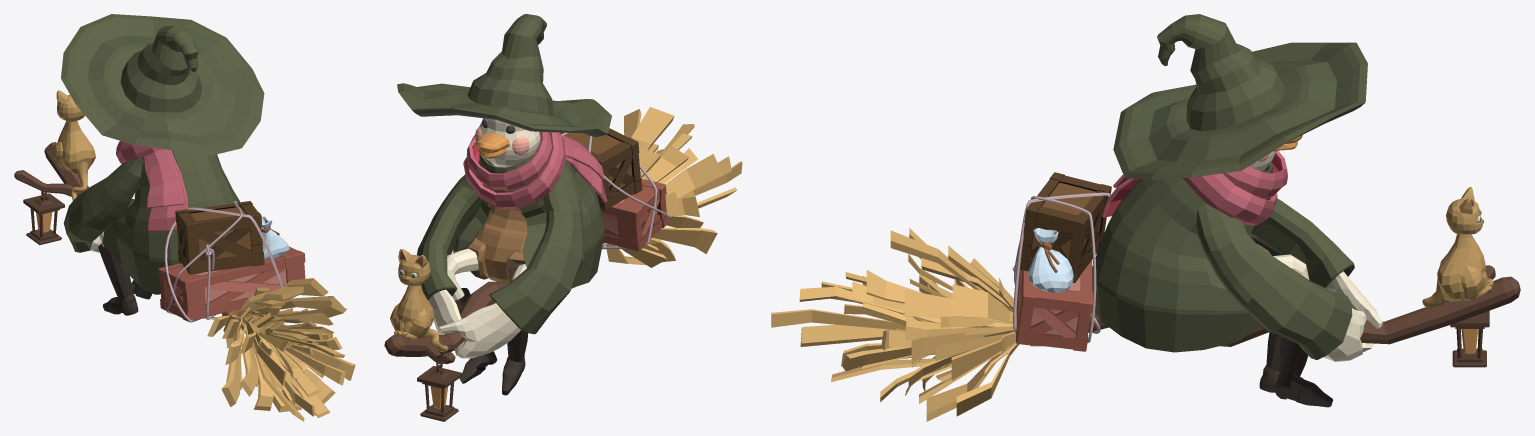
The model's file is duck3.fbx.
3 views of the same model, side by side, from view 1: azimuth 30°, elevation 25°; view 2: azimuth 150°, elevation 25°; view 3: azimuth 270°, elevation 25° (orthographic). The views are drawn at different scales.
Parts seen in each view (by area): view 1: Cylinder.001; view 2: Cylinder.001; view 3: Cylinder.001.
Part boxes in pixels (<box>): Cylinder.001: <box>14,14,355,421</box>; Cylinder.001: <box>384,14,742,421</box>; Cylinder.001: <box>771,14,1520,421</box>.
Bounding box in the file's own units: 313 × 528 × 908.
